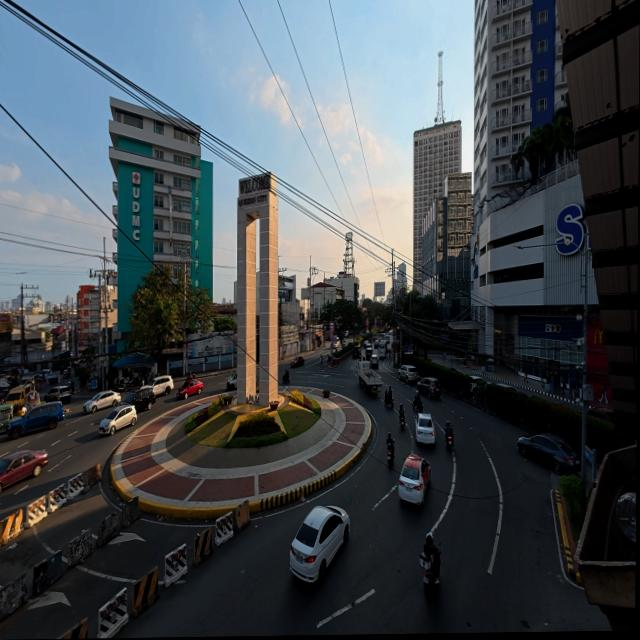bus: (378, 340, 386, 358)
car: (290, 506, 350, 582), (518, 434, 581, 474), (7, 403, 65, 439), (0, 451, 48, 493), (398, 455, 430, 504), (99, 405, 137, 434), (83, 390, 121, 413), (122, 387, 156, 412), (415, 414, 435, 445), (149, 375, 174, 396), (177, 379, 203, 399), (417, 378, 441, 398), (45, 386, 71, 403), (587, 407, 614, 422), (398, 365, 417, 383), (470, 376, 487, 393), (20, 376, 35, 389), (496, 382, 517, 391), (290, 355, 304, 368), (227, 371, 236, 390), (371, 354, 378, 368), (353, 346, 360, 359), (366, 346, 372, 361), (362, 340, 370, 348), (344, 330, 349, 338)
motorcycle: (420, 553, 434, 595), (413, 398, 423, 413), (388, 447, 394, 467), (446, 435, 454, 450), (414, 401, 423, 413), (399, 413, 405, 430), (385, 397, 394, 408), (282, 375, 290, 385)
trucks: (358, 361, 382, 393)
vans: (5, 380, 33, 405)
